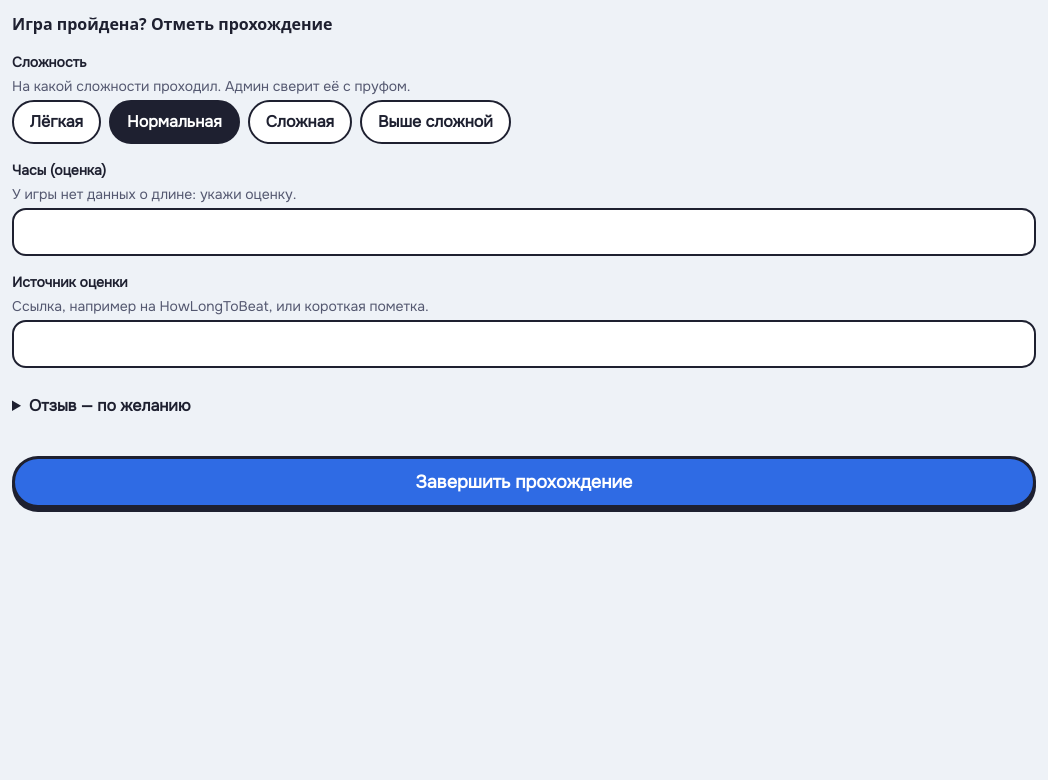
Scenario: CompleteForm › refuses the estimate ""
This screenshot has width=1048, height=780.
Step 1. Type "HLTB" into the field with test id "complete-hours-source" → (524, 344), box [12,320,1036,368]
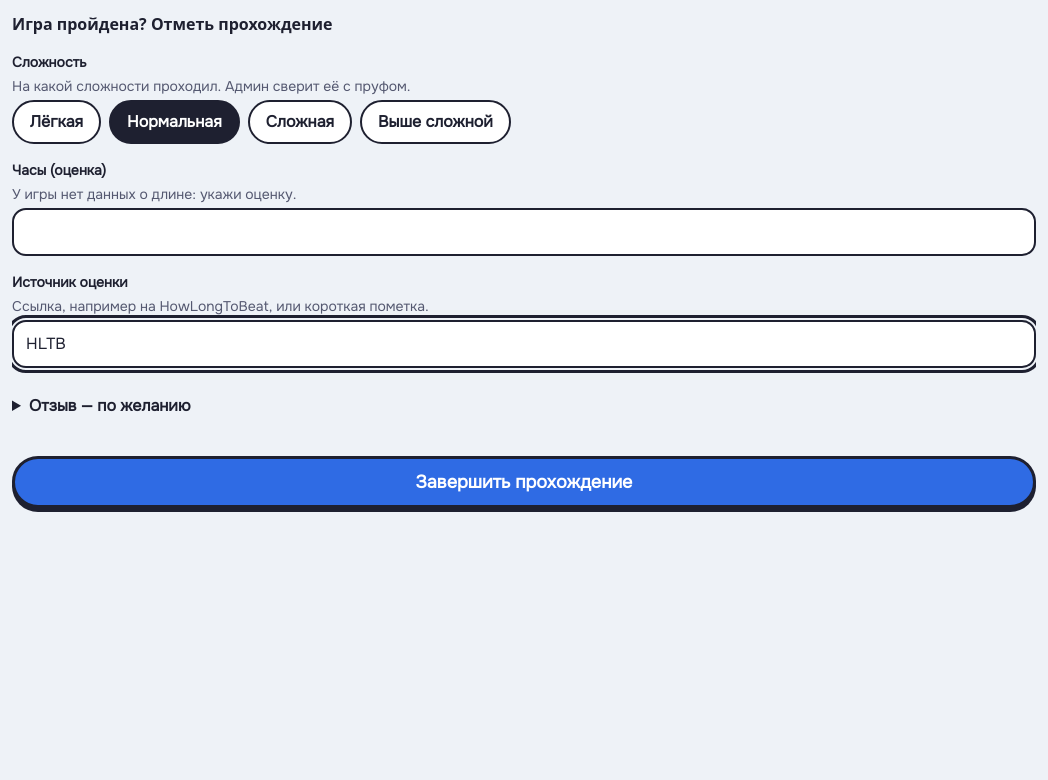
Step 2. Click the button with test id "complete-submit" → click(524, 482), box [12,456,1036,508]
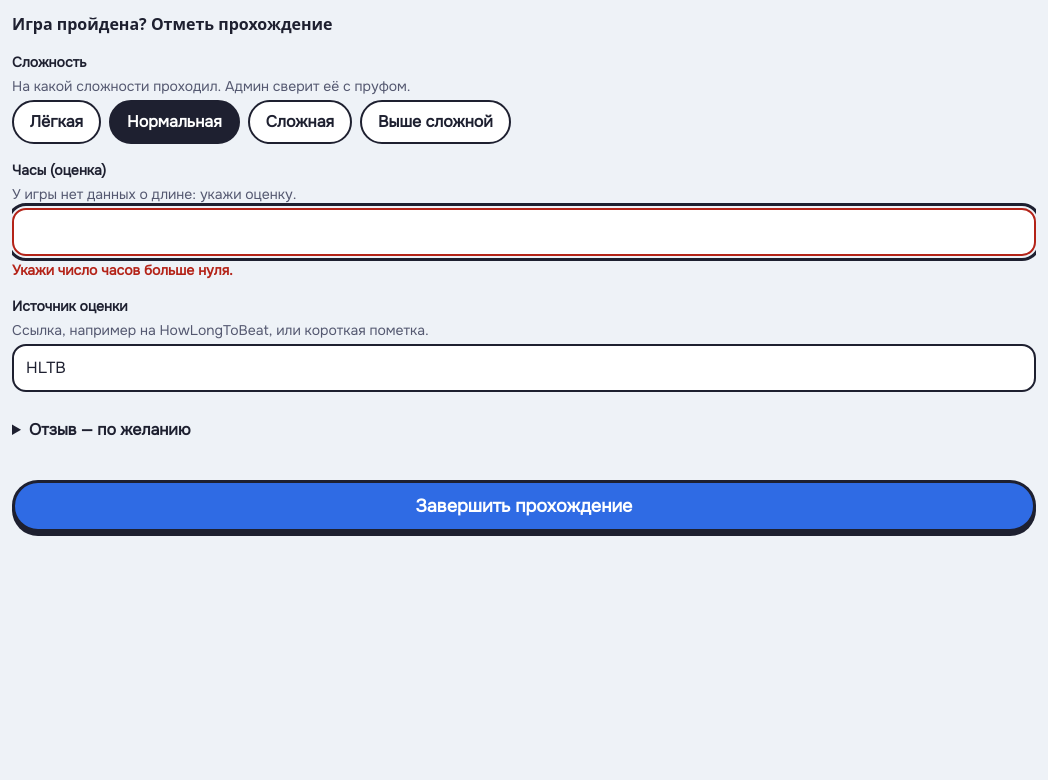
Expected: the message reads "Укажи число часов больше нуля.", [12,261,233,279]
